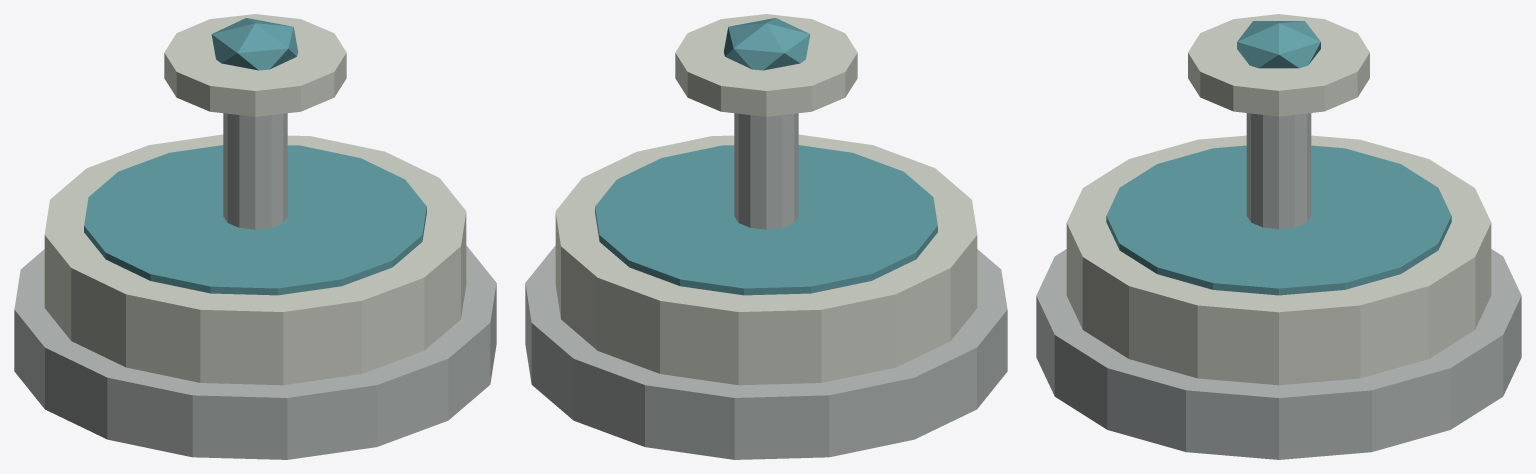
File: fountain.glb
3 views of the same model, side by side, from view 1: azimuth 30°, elevation 25°; view 2: azimuth 150°, elevation 25°; view 3: azimuth 270°, elevation 25° (orthographic).
Visible parts, largest first — view 1: Lower basin, Stone base, Water pool, Upper bowl, Center column, Water crown; view 2: Lower basin, Stone base, Water pool, Upper bowl, Center column, Water crown; view 3: Lower basin, Stone base, Water pool, Upper bowl, Center column, Water crown.
Part boxes in pixels (x1,y1,x2,y2): Lower basin: [44, 134, 466, 385]; Stone base: [14, 245, 496, 459]; Water pool: [84, 145, 426, 295]; Upper bowl: [164, 14, 346, 116]; Center column: [223, 113, 287, 229]; Water crown: [211, 18, 297, 70]; Lower basin: [555, 134, 977, 385]; Stone base: [525, 245, 1007, 459]; Water pool: [595, 145, 937, 295]; Upper bowl: [675, 14, 857, 116]; Center column: [734, 113, 798, 229]; Water crown: [724, 18, 810, 70]; Lower basin: [1066, 135, 1491, 385]; Stone base: [1036, 249, 1521, 459]; Water pool: [1106, 145, 1451, 295]; Upper bowl: [1188, 14, 1369, 116]; Center column: [1246, 113, 1311, 229]; Water crown: [1237, 21, 1320, 68].
Bounding box in the file's own units: 2.56 × 1.95 × 2.56.
